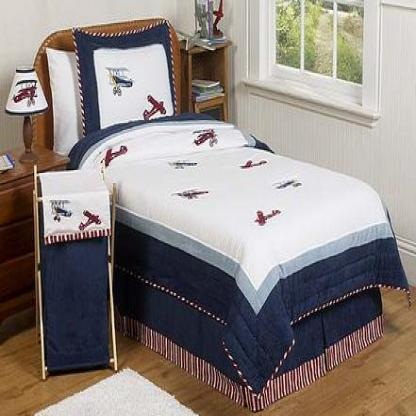Bed: (8, 23, 416, 406)
